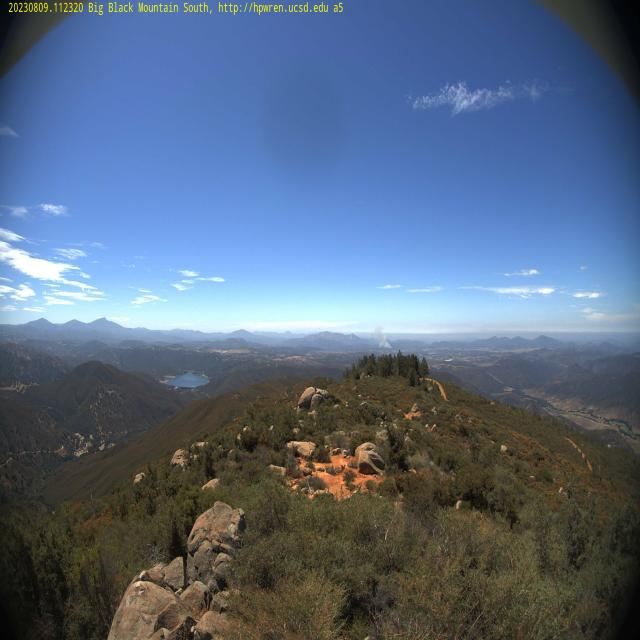smoke: (368, 316, 386, 342), (379, 332, 393, 351)
